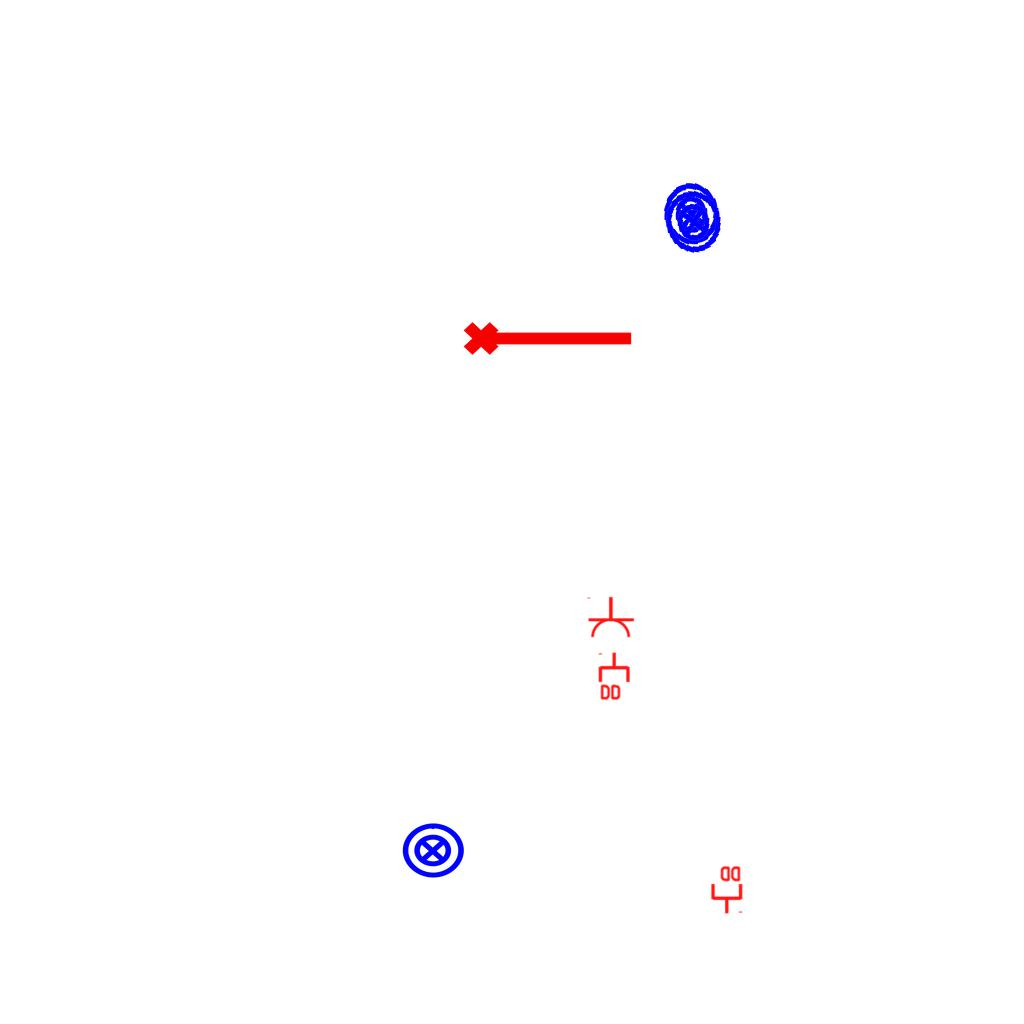ASR_Ansaugoeffnung: (461, 313, 637, 359)
Datenanschluss_zweifach: (598, 651, 632, 702), (709, 864, 743, 915)
Schukosteckdose_einfach: (585, 596, 635, 639)
Taster_beleuchtet: (655, 183, 733, 261), (655, 177, 729, 251), (400, 818, 466, 884)
